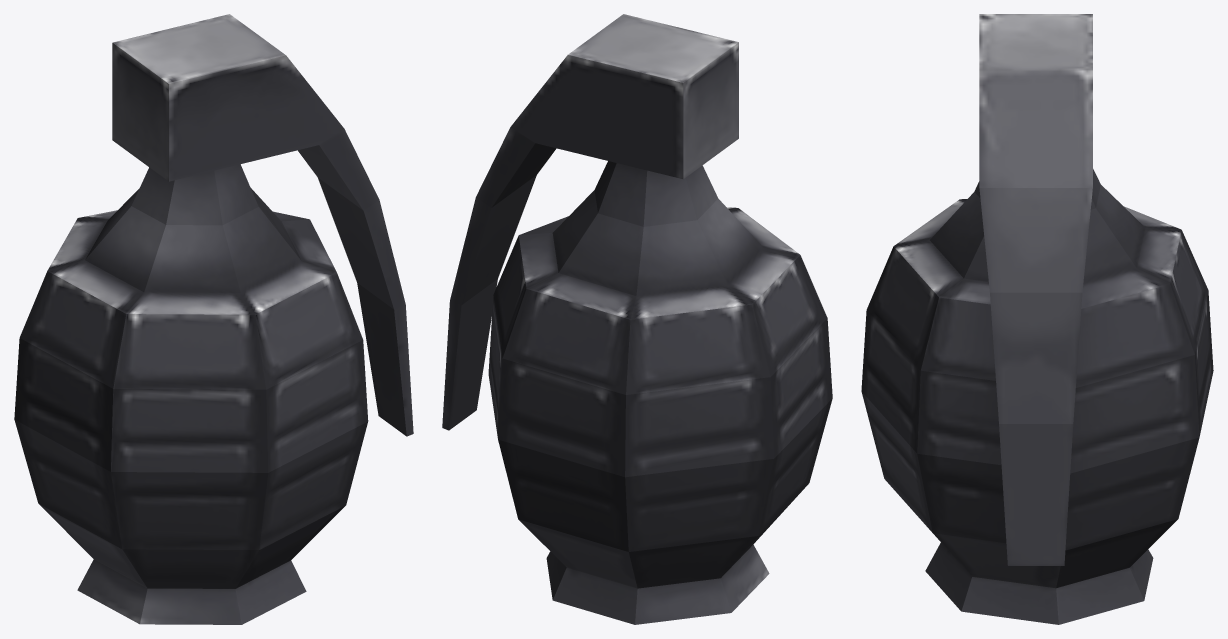
Rendered from ShouLei.FBX.
3 renders of one model, left to right at view 1: azimuth 30°, elevation 25°; view 2: azimuth 150°, elevation 25°; view 3: azimuth 270°, elevation 25°, orthographic.
Visible parts, largest first — view 1: ShouLei; view 2: ShouLei; view 3: ShouLei.
Part boxes in pixels (<box>): ShouLei: <box>14,14,413,624</box>; ShouLei: <box>442,14,832,624</box>; ShouLei: <box>861,14,1213,624</box>.
Bounding box in the file's own units: 14.07 × 12.07 × 20.56.
1 material, 1 textured.
